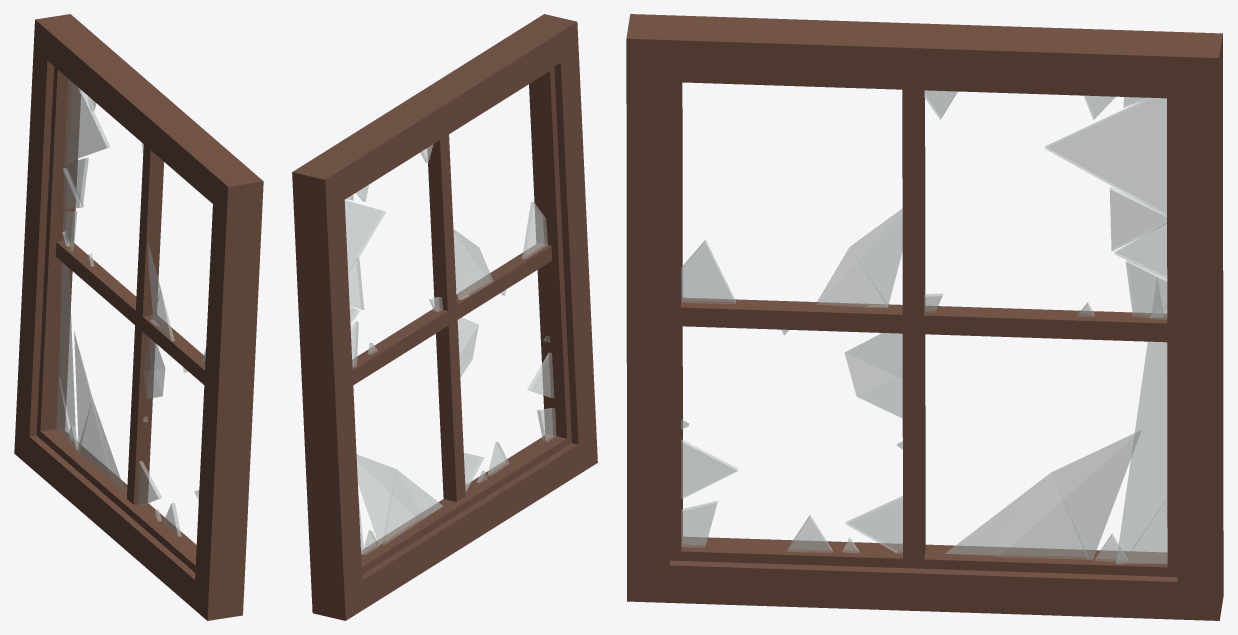
Rendered from broken window.glb.
3 views of the same model, side by side, from view 1: azimuth 30°, elevation 25°; view 2: azimuth 150°, elevation 25°; view 3: azimuth 270°, elevation 25° (orthographic). The views are drawn at different scales.
Visible parts, largest first — view 1: group1406604868; view 2: group1406604868; view 3: group1406604868.
Part boxes in pixels (x1,y1,x2,y2): group1406604868: (14, 14, 263, 620); group1406604868: (292, 14, 597, 620); group1406604868: (626, 14, 1223, 620).
Size of the model in its own units: 0.0375 by 0.1885 by 0.1759.
